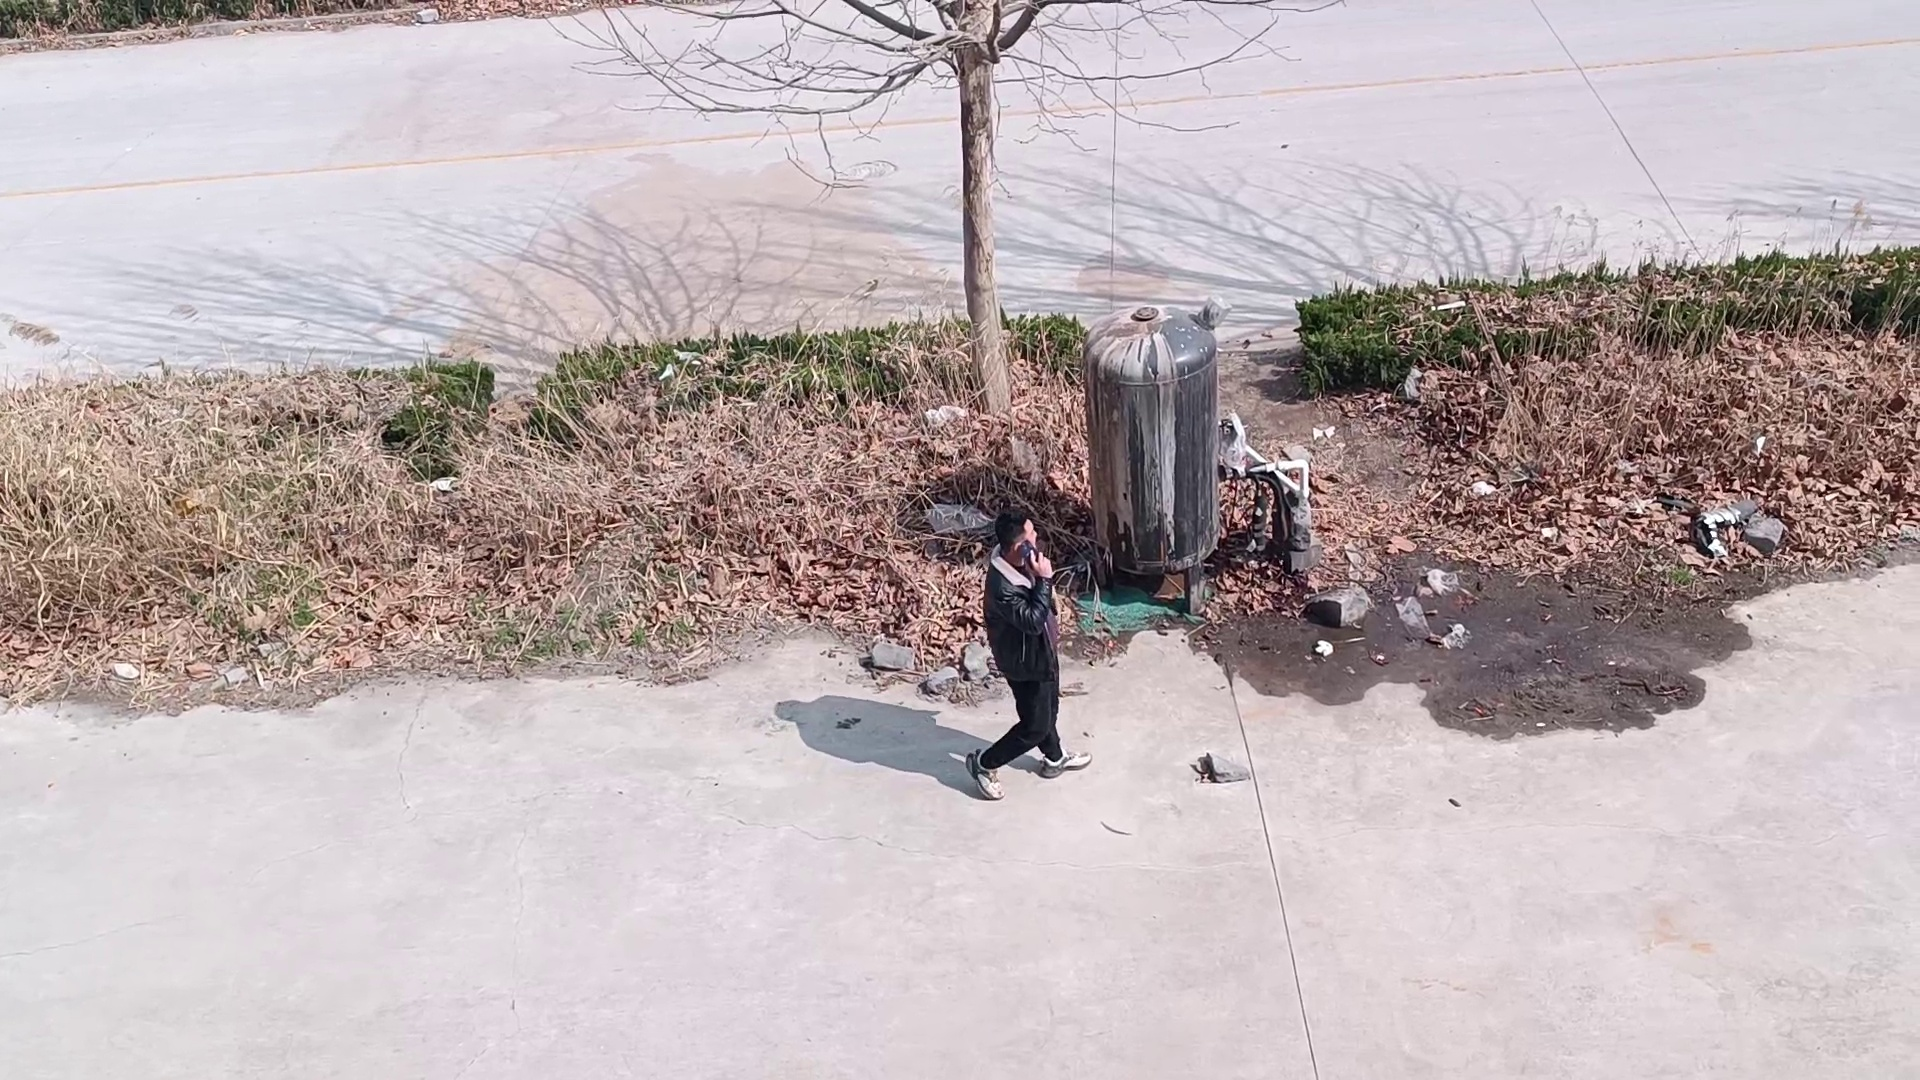phone: (1004, 513, 1040, 568)
